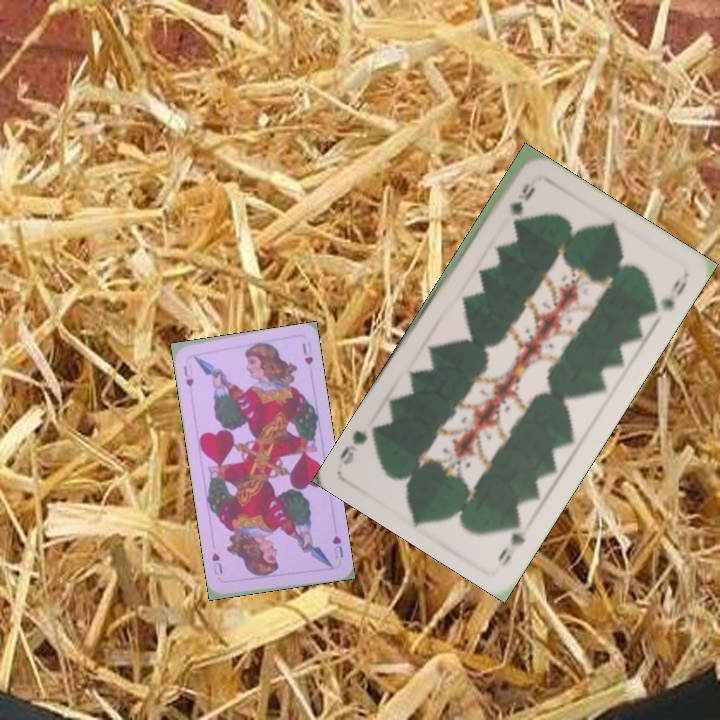G9: (493, 513, 528, 570), (504, 179, 537, 218)
HU: (328, 532, 346, 561), (179, 361, 196, 390)
